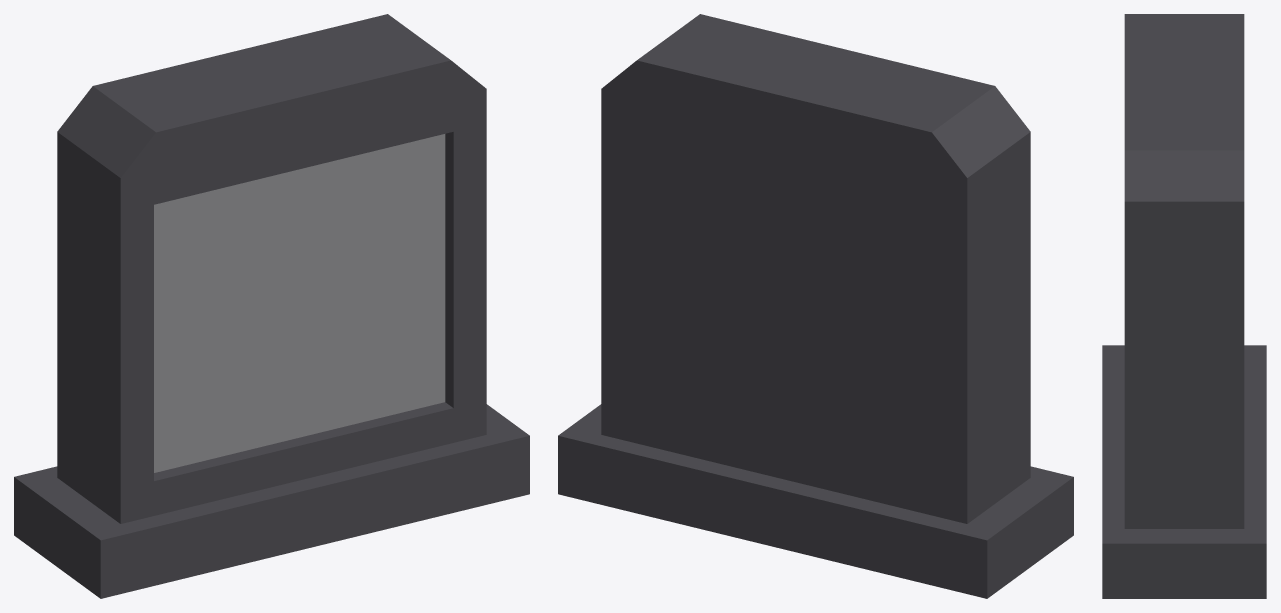
File: b62776a6-36e0-4add-91c4-2e63b4e99de7.glb
3 views of the same model, side by side, from view 1: azimuth 30°, elevation 25°; view 2: azimuth 150°, elevation 25°; view 3: azimuth 270°, elevation 25° (orthographic). The views are drawn at different scales.
Parts seen in each view (by area): view 1: TombStone02; view 2: TombStone02; view 3: TombStone02.
Part boxes in pixels (x1,y1,x2,y2): TombStone02: (14, 14, 529, 598); TombStone02: (558, 14, 1073, 598); TombStone02: (1102, 14, 1266, 598).
Size of what is drawn, in the model's own units: 1.07 by 1.05 by 0.3753.
Materials: 1 (1 with a texture image).
